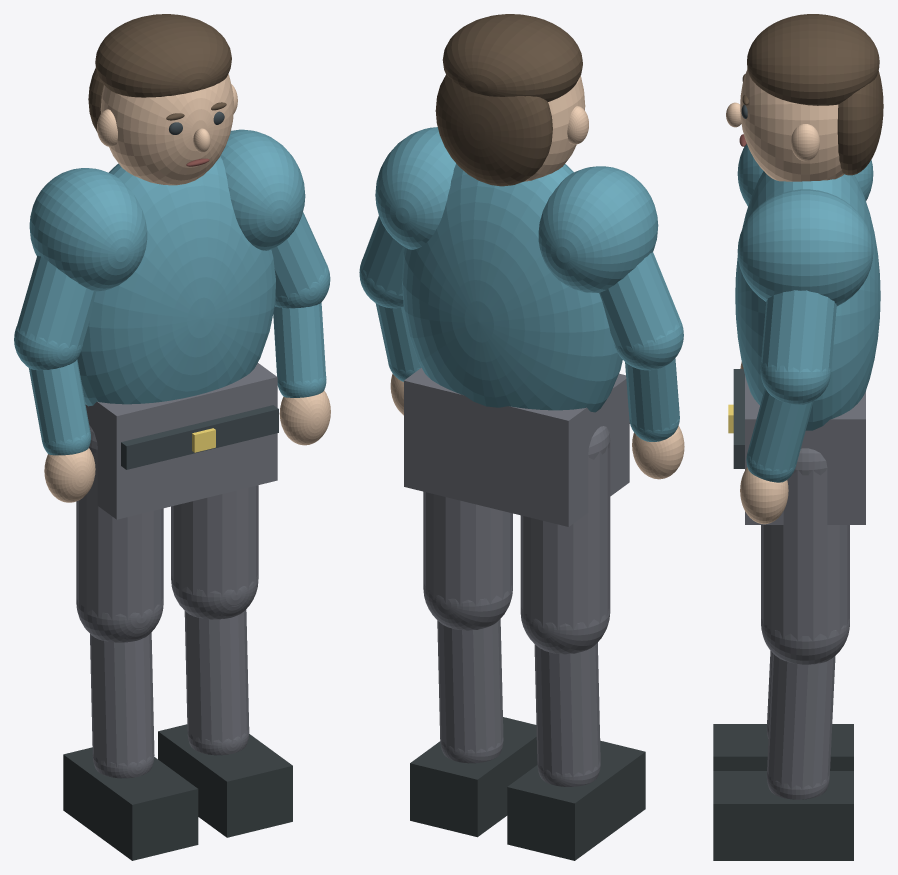
File: npc_civilian.glb
3 views of the same model, side by side, from view 1: azimuth 30°, elevation 25°; view 2: azimuth 150°, elevation 25°; view 3: azimuth 270°, elevation 25° (orthographic). The views are drawn at different scales.
Visible parts, largest first — view 1: torso_base, pelvis, shoulder_left, left_boot, left_trouser_upper, hair_cap, head, right_boot, right_trouser_upper, left_trouser_lower, right_trouser_lower, shoulder_right (+17 smaller); view 2: torso_base, pelvis, shoulder_left, left_trouser_upper, left_boot, hair_cap, hair_back, right_boot, right_trouser_upper, left_trouser_lower, right_trouser_lower, shoulder_right (+13 smaller); view 3: shoulder_right, right_trouser_upper, right_boot, torso_base, hair_cap, right_trouser_lower, head, pelvis, right_upper_arm, left_boot, right_forearm, hair_back (+9 smaller).
Part boxes in pixels (left/top/right/bottom): torso_base: left=77, top=156, right=275, bottom=406; pelvis: left=85, top=363, right=277, bottom=519; shoulder_left: left=29, top=168, right=147, bottom=291; left_boot: left=63, top=747, right=198, bottom=860; left_trouser_upper: left=76, top=451, right=163, bottom=620; hair_cap: left=95, top=14, right=231, bottom=97; head: left=100, top=74, right=233, bottom=185; right_boot: left=158, top=724, right=292, bottom=837; right_trouser_upper: left=171, top=485, right=258, bottom=597; left_trouser_lower: left=90, top=632, right=154, bottom=767; right_trouser_lower: left=184, top=609, right=249, bottom=744; shoulder_right: left=220, top=129, right=305, bottom=250; torso_base: left=401, top=163, right=622, bottom=412; pelvis: left=404, top=368, right=629, bottom=526; shoulder_left: left=538, top=166, right=658, bottom=292; left_trouser_upper: left=520, top=441, right=610, bottom=630; left_boot: left=507, top=740, right=645, bottom=860; hair_cap: left=442, top=14, right=582, bottom=101; hair_back: left=435, top=74, right=552, bottom=186; right_boot: left=410, top=717, right=537, bottom=837; right_trouser_upper: left=423, top=491, right=512, bottom=606; left_trouser_lower: left=534, top=642, right=600, bottom=777; right_trouser_lower: left=437, top=619, right=503, bottom=754; shoulder_right: left=375, top=127, right=455, bottom=249; shoulder_right: left=737, top=189, right=873, bottom=306; right_trouser_upper: left=761, top=468, right=849, bottom=641; right_boot: left=713, top=771, right=853, bottom=860; torso_base: left=735, top=171, right=880, bottom=430; hair_cap: left=747, top=14, right=879, bottom=105; right_trouser_lower: left=766, top=653, right=835, bottom=789; head: left=740, top=69, right=843, bottom=181; pelvis: left=745, top=375, right=865, bottom=524; right_upper_arm: left=761, top=290, right=836, bottom=374; left_boot: left=713, top=724, right=853, bottom=770; right_forearm: left=747, top=388, right=813, bottom=472; hair_back: left=837, top=71, right=883, bottom=175.
Bounding box in the file's own units: 0.7449 × 1.81 × 0.351.
